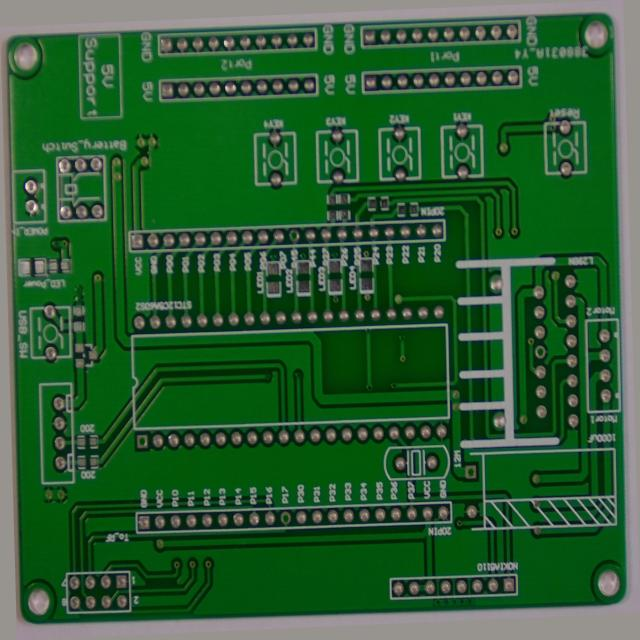missing_hole: (126, 427, 142, 449), (271, 515, 286, 536), (288, 221, 304, 240), (463, 476, 478, 496), (538, 354, 552, 372)
